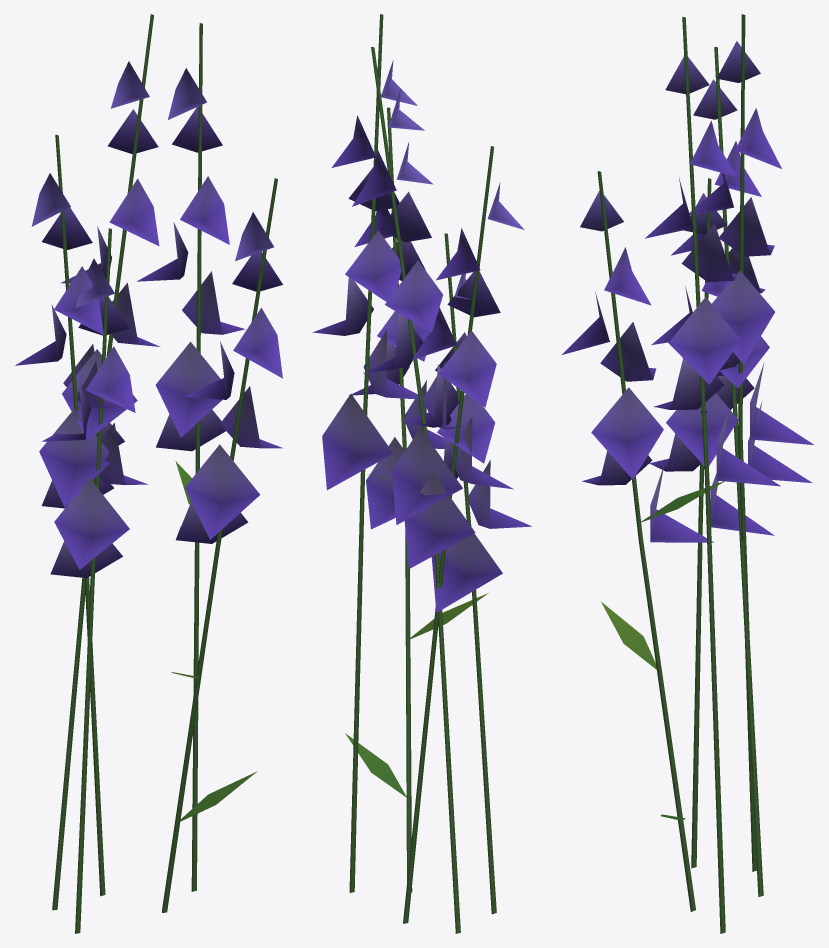
File: flower-lupine-b.lod2.glb
3 renders of one model, left to right at view 1: azimuth 30°, elevation 25°; view 2: azimuth 150°, elevation 25°; view 3: azimuth 270°, elevation 25°, orthographic. The views are drawn at different scales.
Visible parts, largest first — view 1: flower-lupine-b.lod2; view 2: flower-lupine-b.lod2; view 3: flower-lupine-b.lod2.
Part boxes in pixels (box(x1,y1,x2,y2)): flower-lupine-b.lod2: box(15, 14, 282, 933); flower-lupine-b.lod2: box(312, 14, 532, 933); flower-lupine-b.lod2: box(562, 14, 813, 933).
Bounding box in the file's own units: 0.1996 × 0.7797 × 0.1971.
